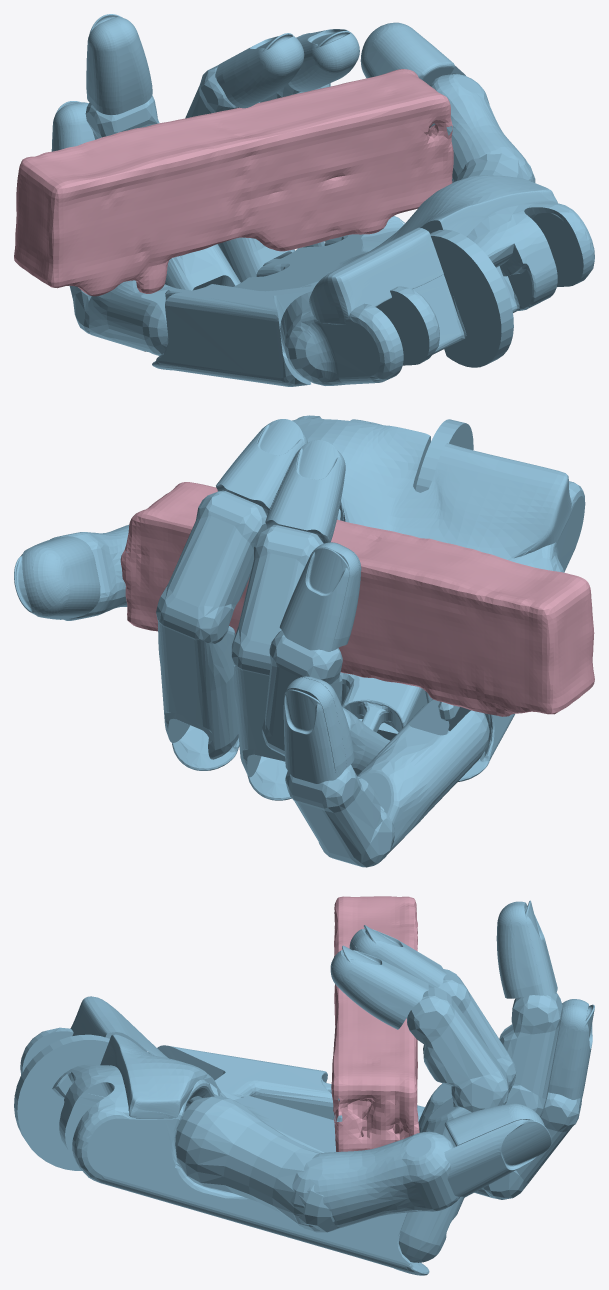
3 renders of one model, top to bottom at view 1: azimuth 30°, elevation 25°; view 2: azimuth 150°, elevation 25°; view 3: azimuth 270°, elevation 25°, orthographic. The views are drawn at different scales.
Parts seen in each view (by area): view 1: hand, world; view 2: hand, world; view 3: hand, world.
Part boxes in pixels (x1,y1,x2,y2): hand: (51, 14, 594, 386); world: (14, 69, 453, 296); hand: (14, 415, 585, 867); world: (120, 482, 594, 716); hand: (14, 900, 594, 1275); world: (331, 896, 419, 1151).
Size of the model in its own units: 0.1525 by 0.0989 by 0.1635.
